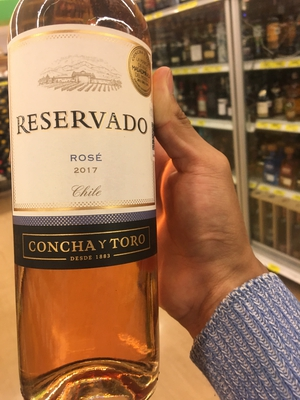reservado rose: (8, 7, 161, 384)
